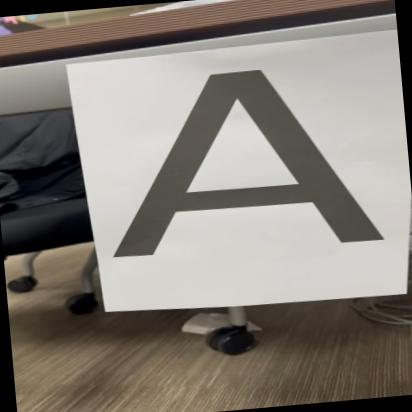seat: (87, 50, 406, 282)
